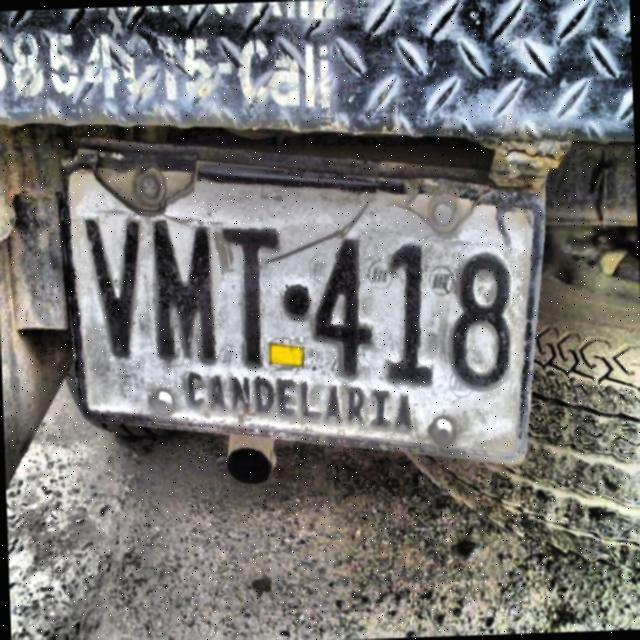plate: (70, 168, 532, 455)
